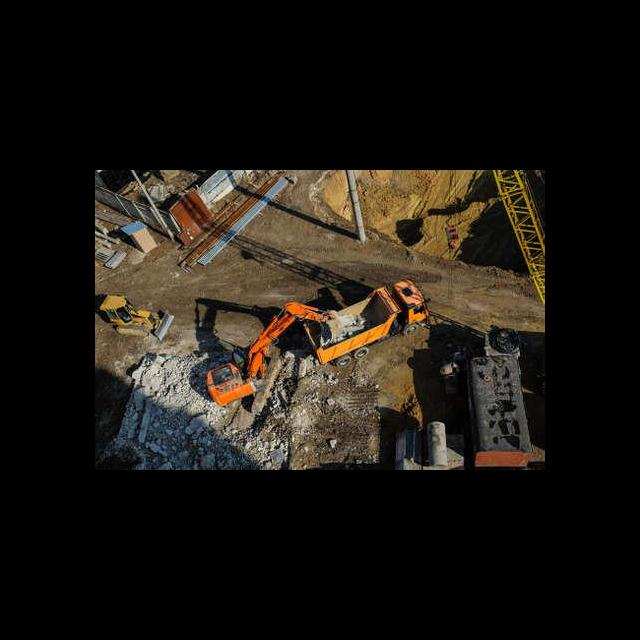Excavator: (199, 300, 342, 420)
dump truck: (299, 277, 430, 370)
wheel loader: (99, 294, 174, 342)
